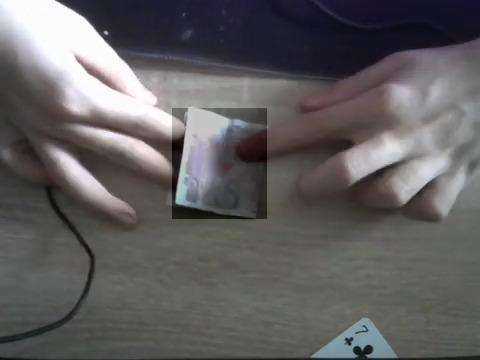5leva: (172, 108, 267, 219)
